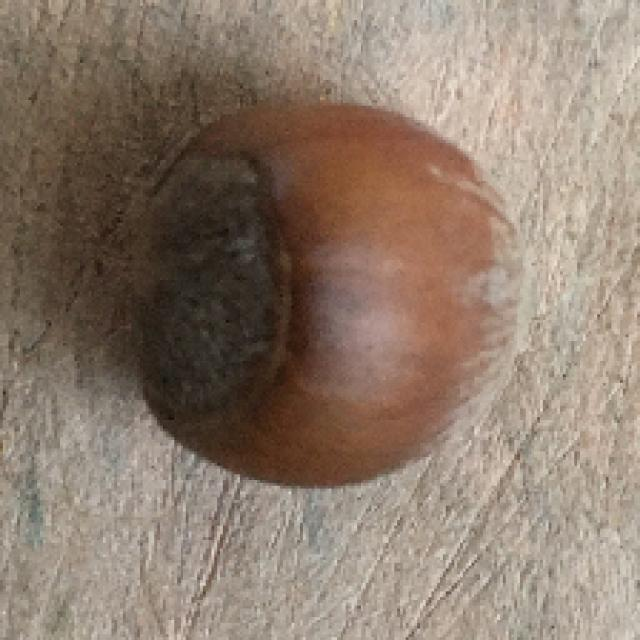damagedHazelnut: (126, 87, 526, 492)
